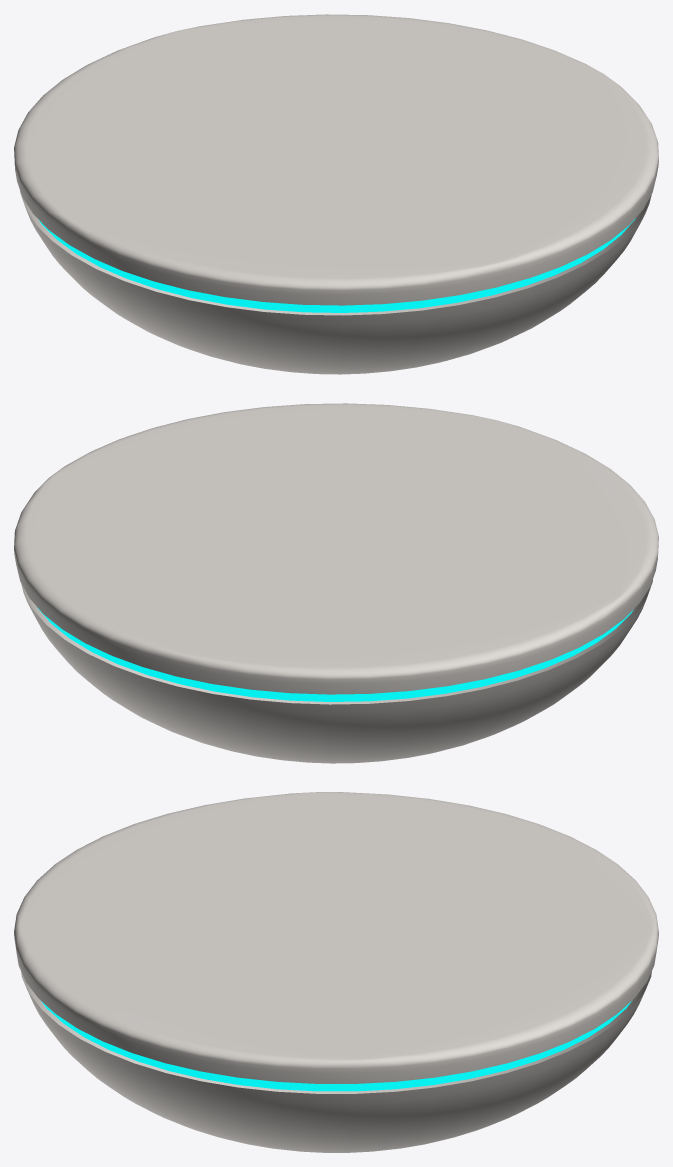
The model's file is gimbal.glb.
3 renders of one model, top to bottom at view 1: azimuth 30°, elevation 25°; view 2: azimuth 150°, elevation 25°; view 3: azimuth 270°, elevation 25°, orthographic.
Parts seen in each view (by area): view 1: Sphere, Sphere.001; view 2: Sphere, Sphere.001; view 3: Sphere, Sphere.001.
Boxes of the visible parts, x1,y1,x2,y2 form: Sphere: (14, 14, 658, 374); Sphere.001: (38, 218, 635, 312); Sphere: (14, 403, 658, 763); Sphere.001: (37, 607, 633, 701); Sphere: (14, 792, 658, 1152); Sphere.001: (40, 1000, 632, 1091).
Bounding box in the file's own units: 1.99 × 0.6201 × 2.
